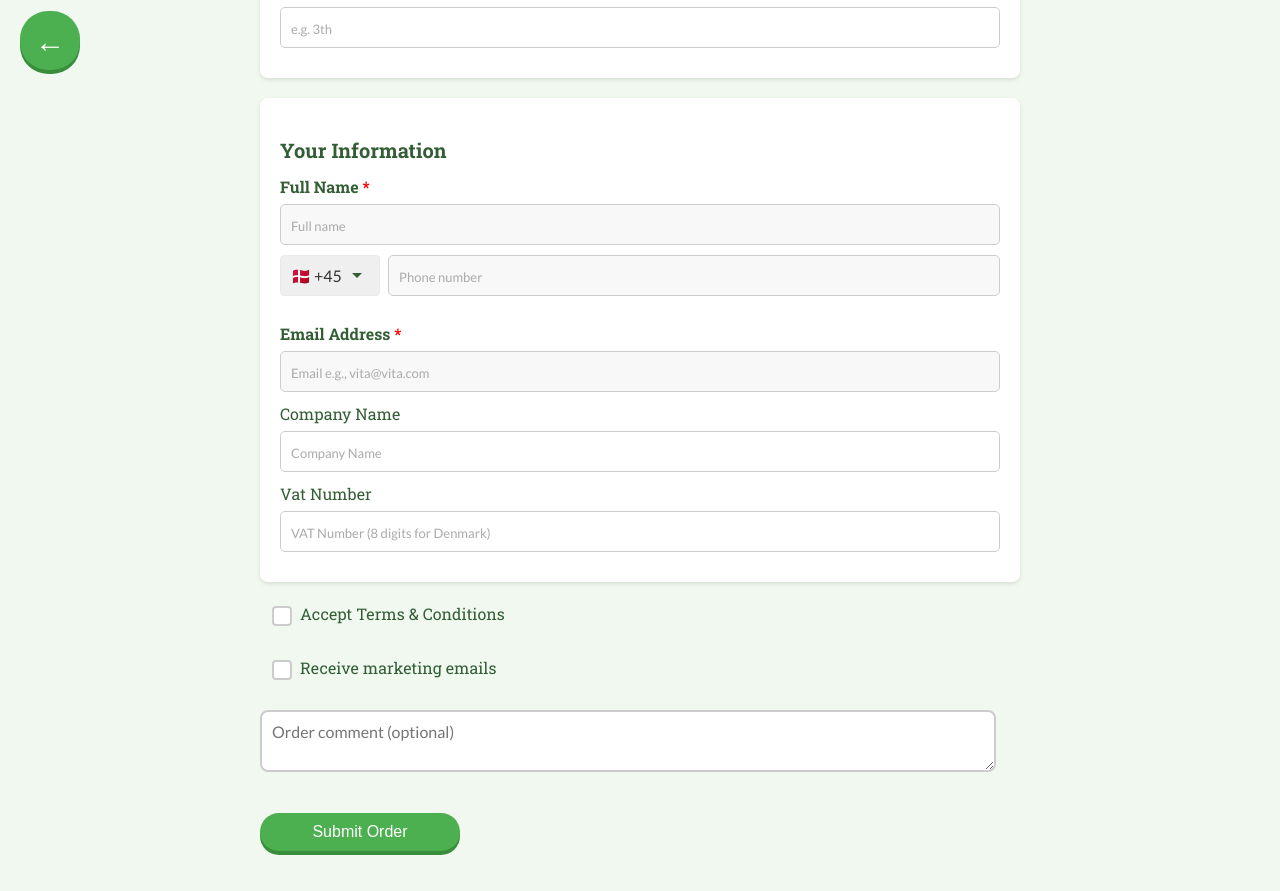
Checkout component › validates form fields correctly (Name)
(page scrolled)
Click the button "Submit Order": (360, 832) [260,813,460,851]
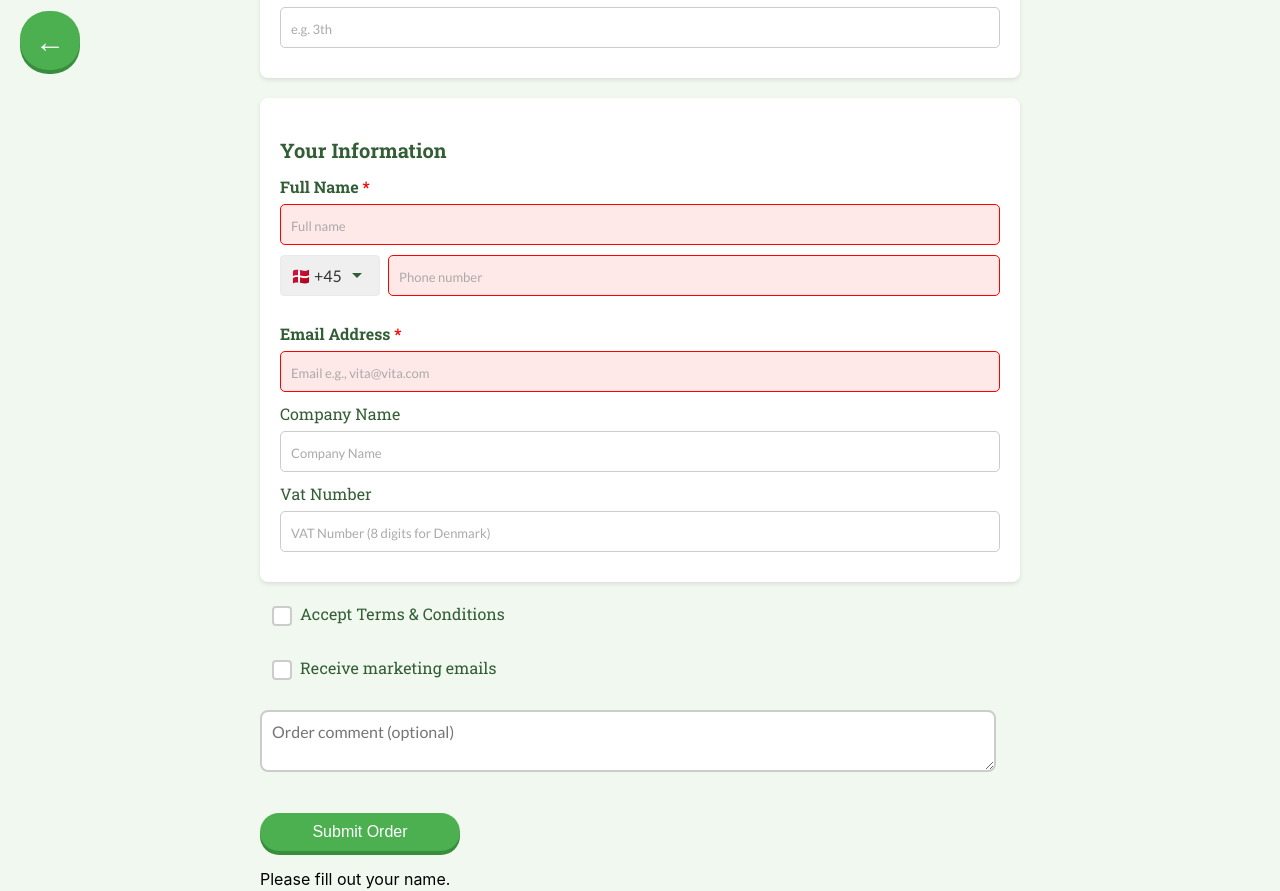
Expected: the text "Please fill out your name." is shown, [260,869,450,889]
